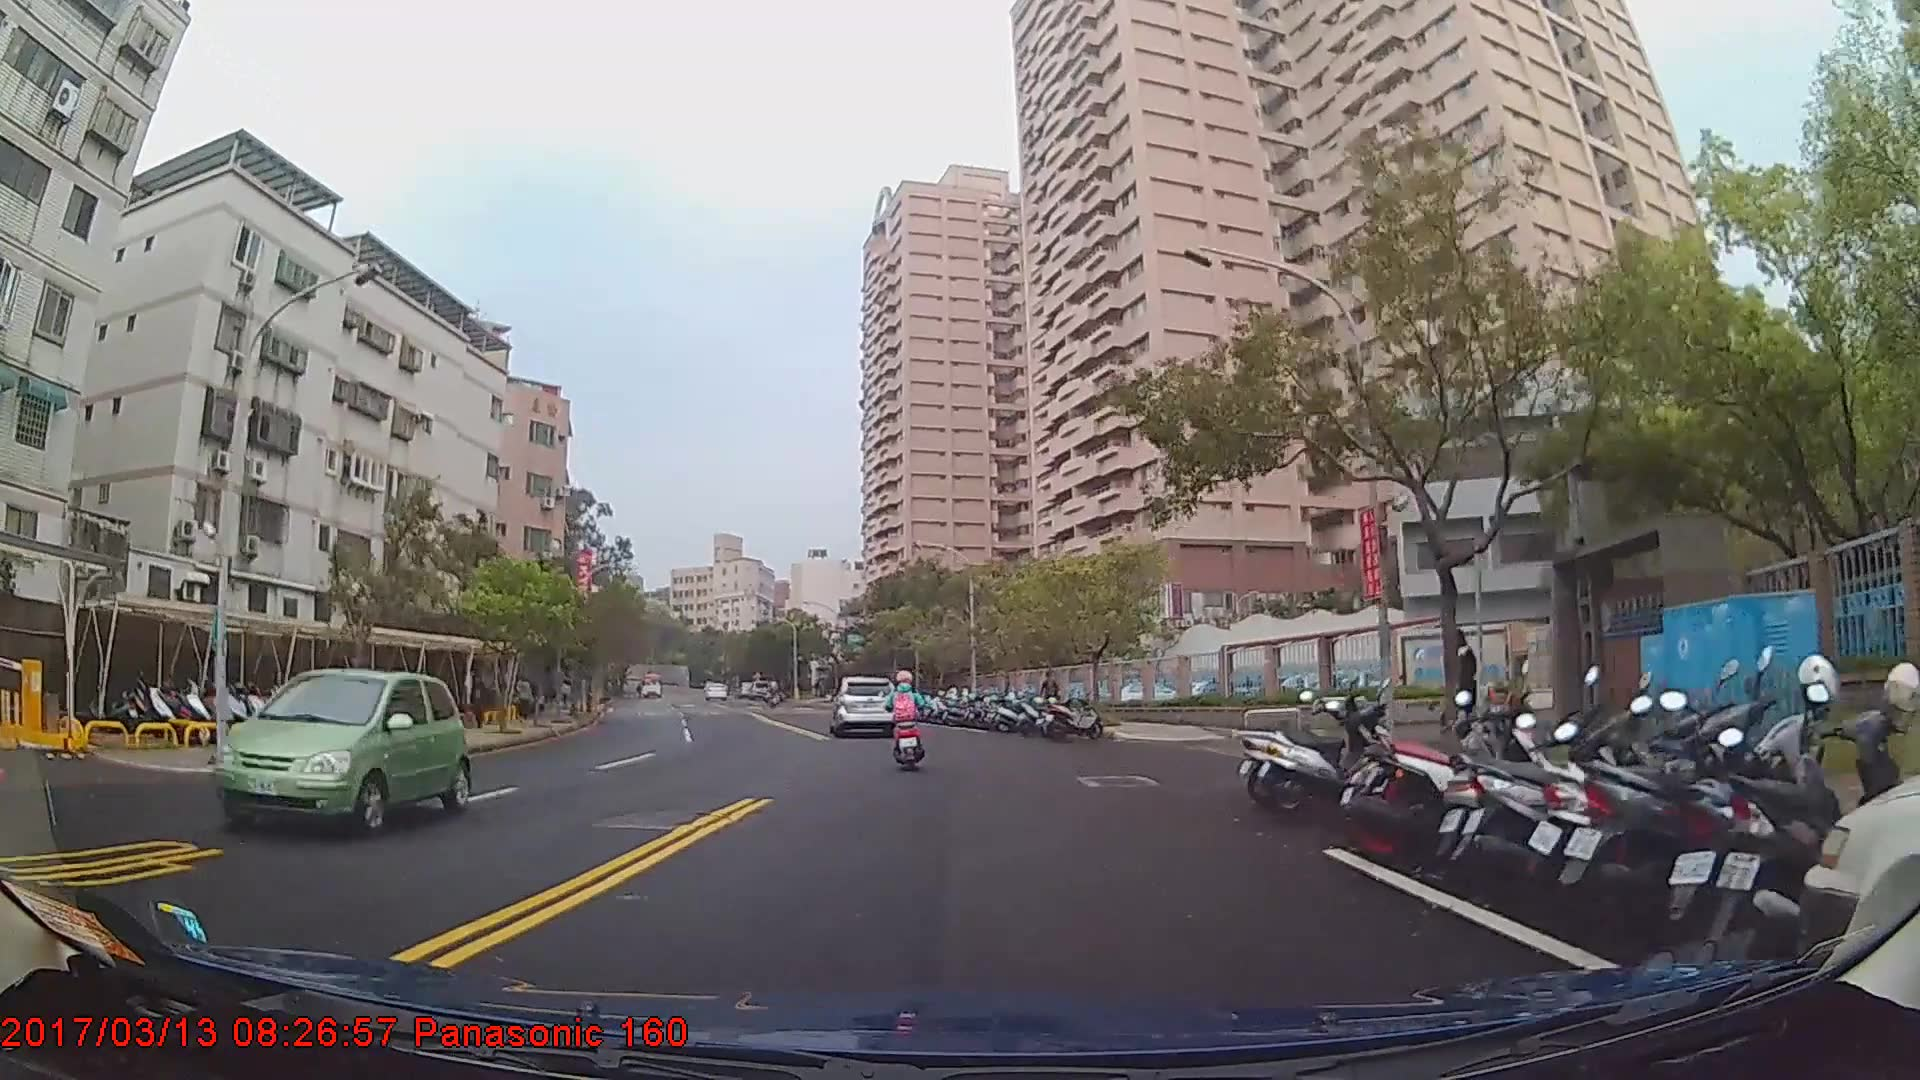pedestrian: (1444, 627, 1481, 767), (1040, 672, 1061, 727)
rider: (883, 670, 926, 766)
vehicle: (214, 667, 472, 836), (830, 673, 898, 738), (637, 670, 664, 700)
